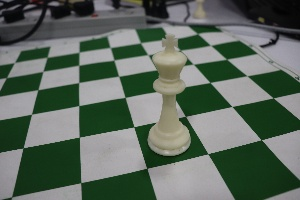white_king: (140, 28, 195, 161)
